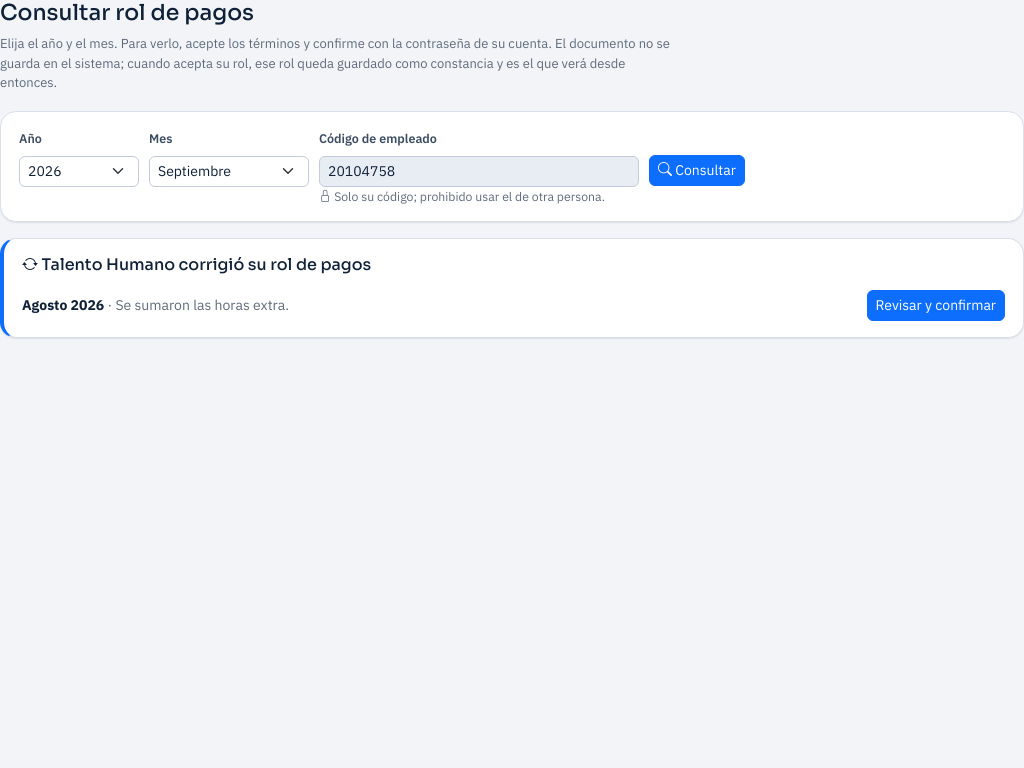
Consultar rol de pagos › si Talento Humano corrigió su rol, se lo dice y lo lleva a confirmar
Check: the text "· Se sumaron las horas extra." is shown, box [104,296,289,314]
Step 1. Click the button "Revisar y confirmar" → [936, 306], box [867,290,1005,321]
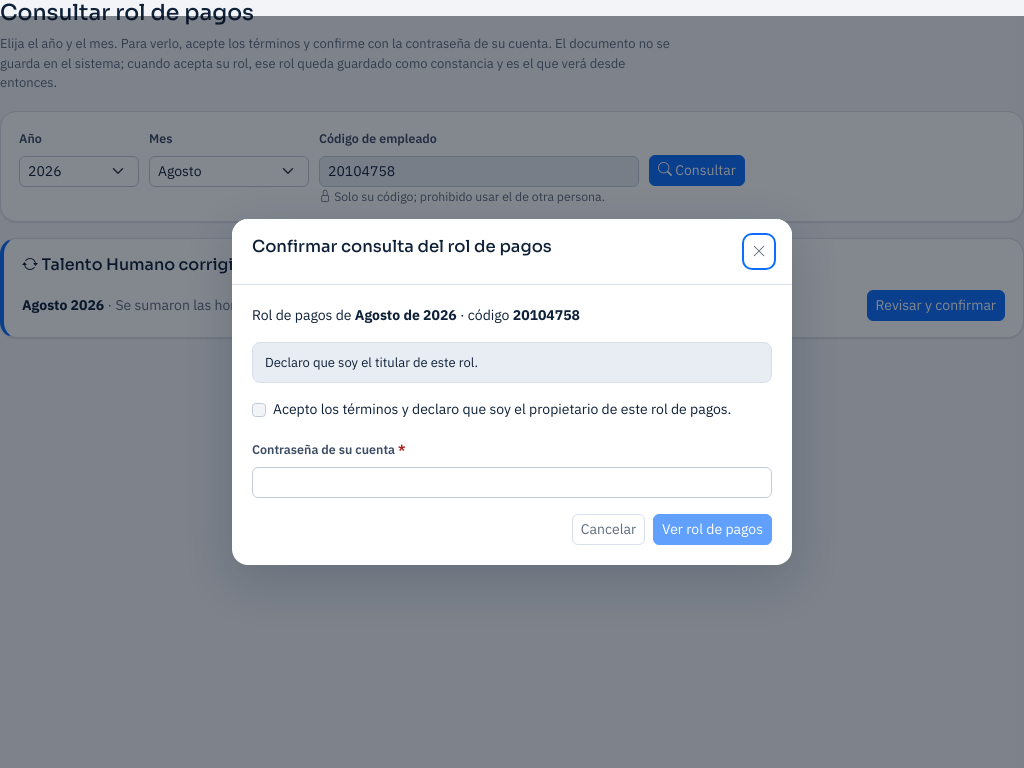
Check: the dialog "Confirmar consulta del rol de pagos" shows "Agosto de 2026", box [232,219,792,565]
